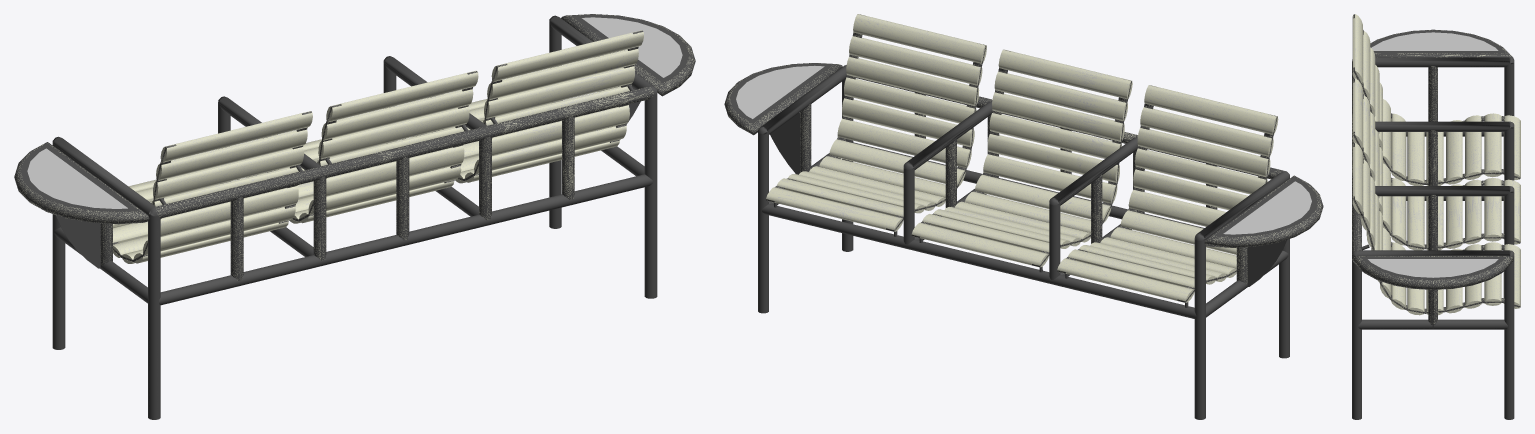
3 renders of one model, left to right at view 1: azimuth 30°, elevation 25°; view 2: azimuth 150°, elevation 25°; view 3: azimuth 270°, elevation 25°, orthographic. The views are drawn at different scales.
Parts seen in each view (by area): view 1: mesh7_mesh7-geometry, mesh73_mesh73-geometry, mesh3_mesh3-geometry, mesh1_mesh1-geometry, mesh74_mesh74-geometry, mesh4_mesh4-geometry, mesh72_mesh72-geometry, mesh8_mesh8-geometry, mesh76_mesh76-geometry, mesh2_mesh2-geometry; view 2: mesh7_mesh7-geometry, mesh73_mesh73-geometry, mesh1_mesh1-geometry, mesh3_mesh3-geometry, mesh72_mesh72-geometry, mesh4_mesh4-geometry, mesh8_mesh8-geometry, mesh2_mesh2-geometry, mesh75_mesh75-geometry, mesh76_mesh76-geometry, mesh74_mesh74-geometry; view 3: mesh7_mesh7-geometry, mesh73_mesh73-geometry, mesh1_mesh1-geometry, mesh72_mesh72-geometry, mesh4_mesh4-geometry, mesh3_mesh3-geometry, mesh8_mesh8-geometry, mesh2_mesh2-geometry, mesh74_mesh74-geometry.
Boxes of the visible parts, <box> form: mesh7_mesh7-geometry: <box>113,30,643,263</box>; mesh73_mesh73-geometry: <box>14,14,695,224</box>; mesh3_mesh3-geometry: <box>54,146,652,305</box>; mesh1_mesh1-geometry: <box>52,23,657,419</box>; mesh74_mesh74-geometry: <box>155,86,654,218</box>; mesh4_mesh4-geometry: <box>100,89,607,280</box>; mesh72_mesh72-geometry: <box>52,56,488,216</box>; mesh8_mesh8-geometry: <box>113,30,643,261</box>; mesh76_mesh76-geometry: <box>55,215,100,268</box>; mesh2_mesh2-geometry: <box>549,15,657,94</box>; mesh7_mesh7-geometry: <box>766,14,1278,302</box>; mesh73_mesh73-geometry: <box>724,63,1323,247</box>; mesh1_mesh1-geometry: <box>758,79,1289,419</box>; mesh3_mesh3-geometry: <box>762,142,1288,318</box>; mesh72_mesh72-geometry: <box>903,101,1289,240</box>; mesh4_mesh4-geometry: <box>800,92,1247,283</box>; mesh8_mesh8-geometry: <box>766,14,1277,302</box>; mesh2_mesh2-geometry: <box>758,65,846,134</box>; mesh75_mesh75-geometry: <box>770,112,799,174</box>; mesh76_mesh76-geometry: <box>1247,240,1286,286</box>; mesh74_mesh74-geometry: <box>856,77,1285,179</box>; mesh7_mesh7-geometry: <box>1352,14,1520,315</box>; mesh73_mesh73-geometry: <box>1352,29,1513,289</box>; mesh1_mesh1-geometry: <box>1352,63,1514,419</box>; mesh72_mesh72-geometry: <box>1352,57,1514,196</box>; mesh4_mesh4-geometry: <box>1428,66,1437,324</box>; mesh3_mesh3-geometry: <box>1358,132,1507,329</box>; mesh8_mesh8-geometry: <box>1353,14,1520,313</box>; mesh2_mesh2-geometry: <box>1352,250,1514,256</box>; mesh74_mesh74-geometry: <box>1352,60,1361,254</box>.
Bounding box in the file's own units: 0.9004 × 0.3543 × 0.2526.
